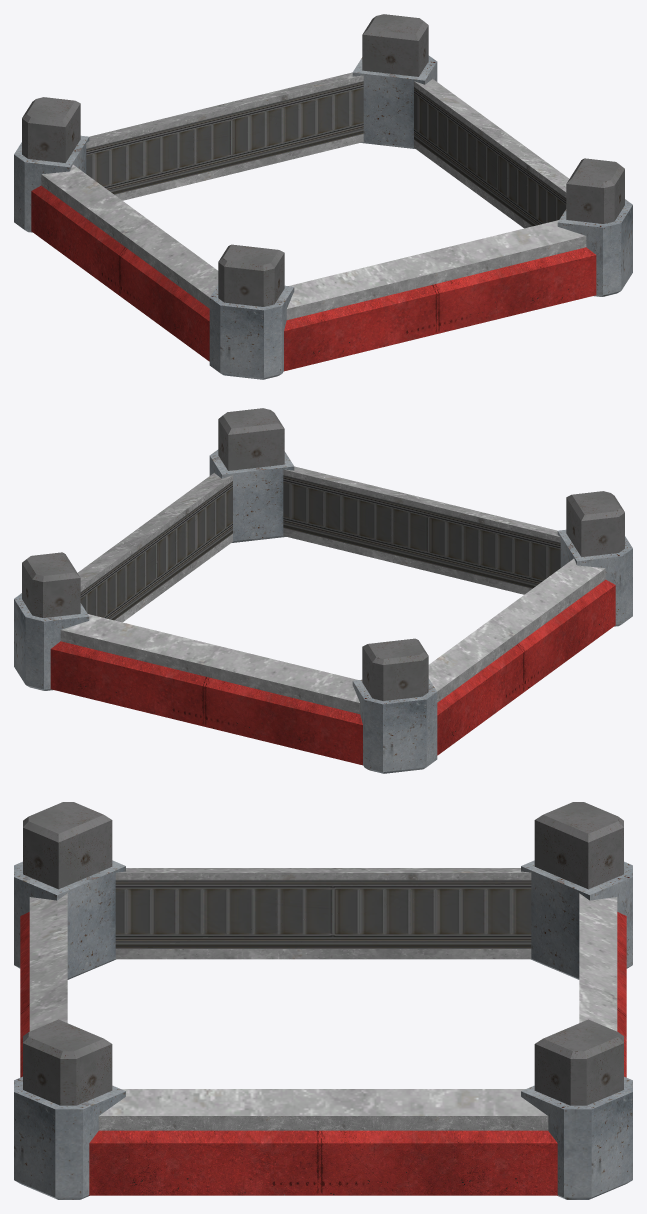
File: Ob_PillarBaseOrTop_RC.fbx
3 renders of one model, top to bottom at view 1: azimuth 30°, elevation 25°; view 2: azimuth 150°, elevation 25°; view 3: azimuth 270°, elevation 25°, orthographic. The views are drawn at different scales.
Parts seen in each view (by area): view 1: Ob_PillarBaseOrTop_RC; view 2: Ob_PillarBaseOrTop_RC; view 3: Ob_PillarBaseOrTop_RC.
Part boxes in pixels (<box>): Ob_PillarBaseOrTop_RC: <box>14,14,632,379</box>; Ob_PillarBaseOrTop_RC: <box>14,408,632,773</box>; Ob_PillarBaseOrTop_RC: <box>14,802,632,1199</box>.
Bounding box in the file's own units: 1634 × 423 × 1634.
